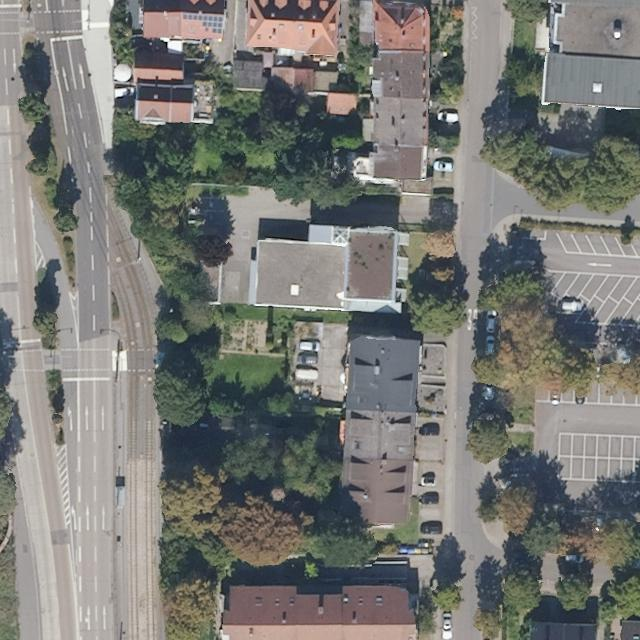PV: (179, 9, 228, 36)
